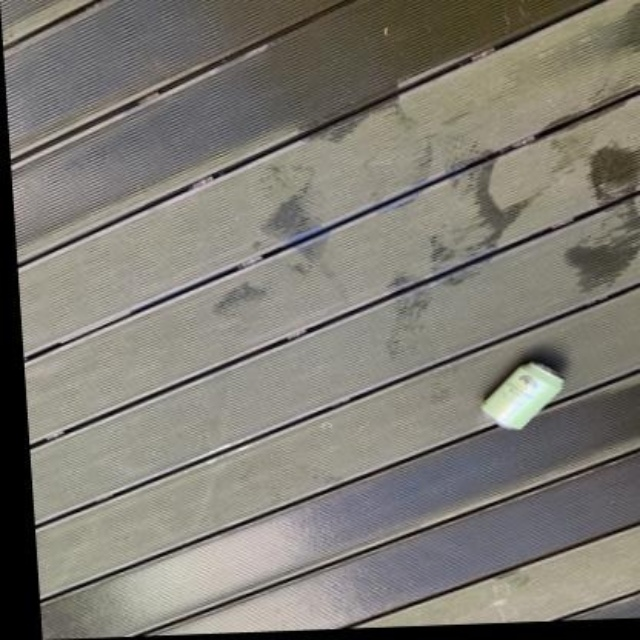trash: (482, 362, 563, 428)
